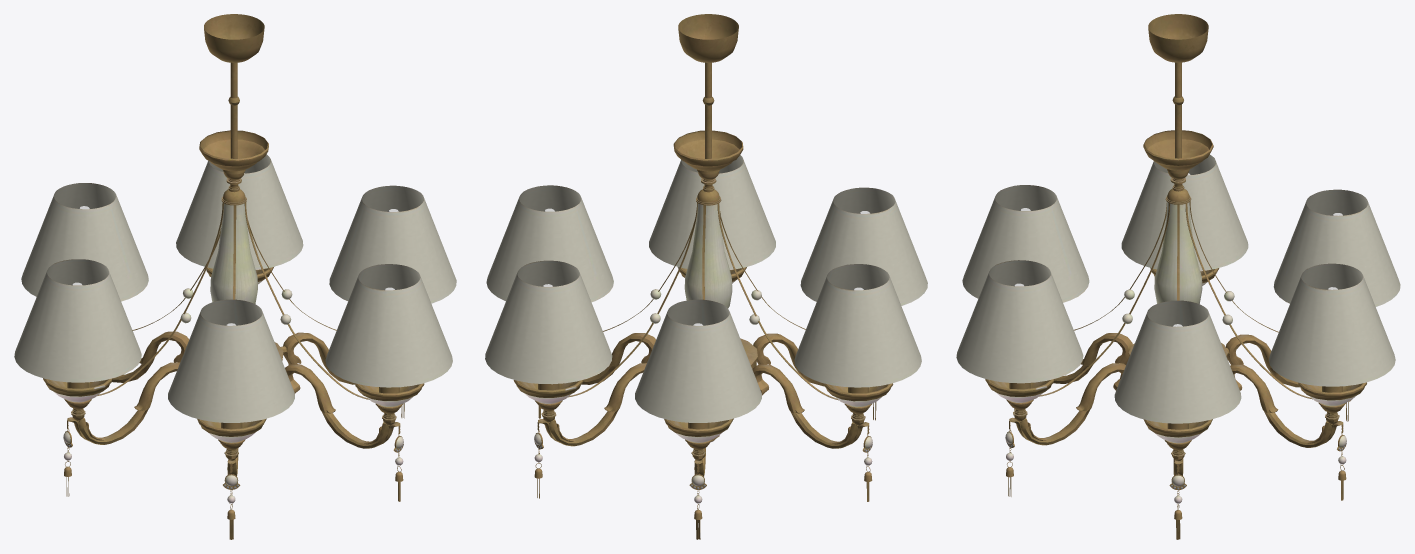
File: chandelier-classic.glb
3 renders of one model, left to right at view 1: azimuth 30°, elevation 25°; view 2: azimuth 150°, elevation 25°; view 3: azimuth 270°, elevation 25°, orthographic.
Visible parts, largest first — view 1: chandelier-classic; view 2: chandelier-classic; view 3: chandelier-classic.
Part boxes in pixels (bbox=[...]): chandelier-classic: bbox=[14, 14, 456, 539]; chandelier-classic: bbox=[485, 14, 927, 539]; chandelier-classic: bbox=[956, 14, 1400, 539].
Size of the model in its own units: 0.8153 by 0.7983 by 0.7462.
2 materials, 1 textured.
